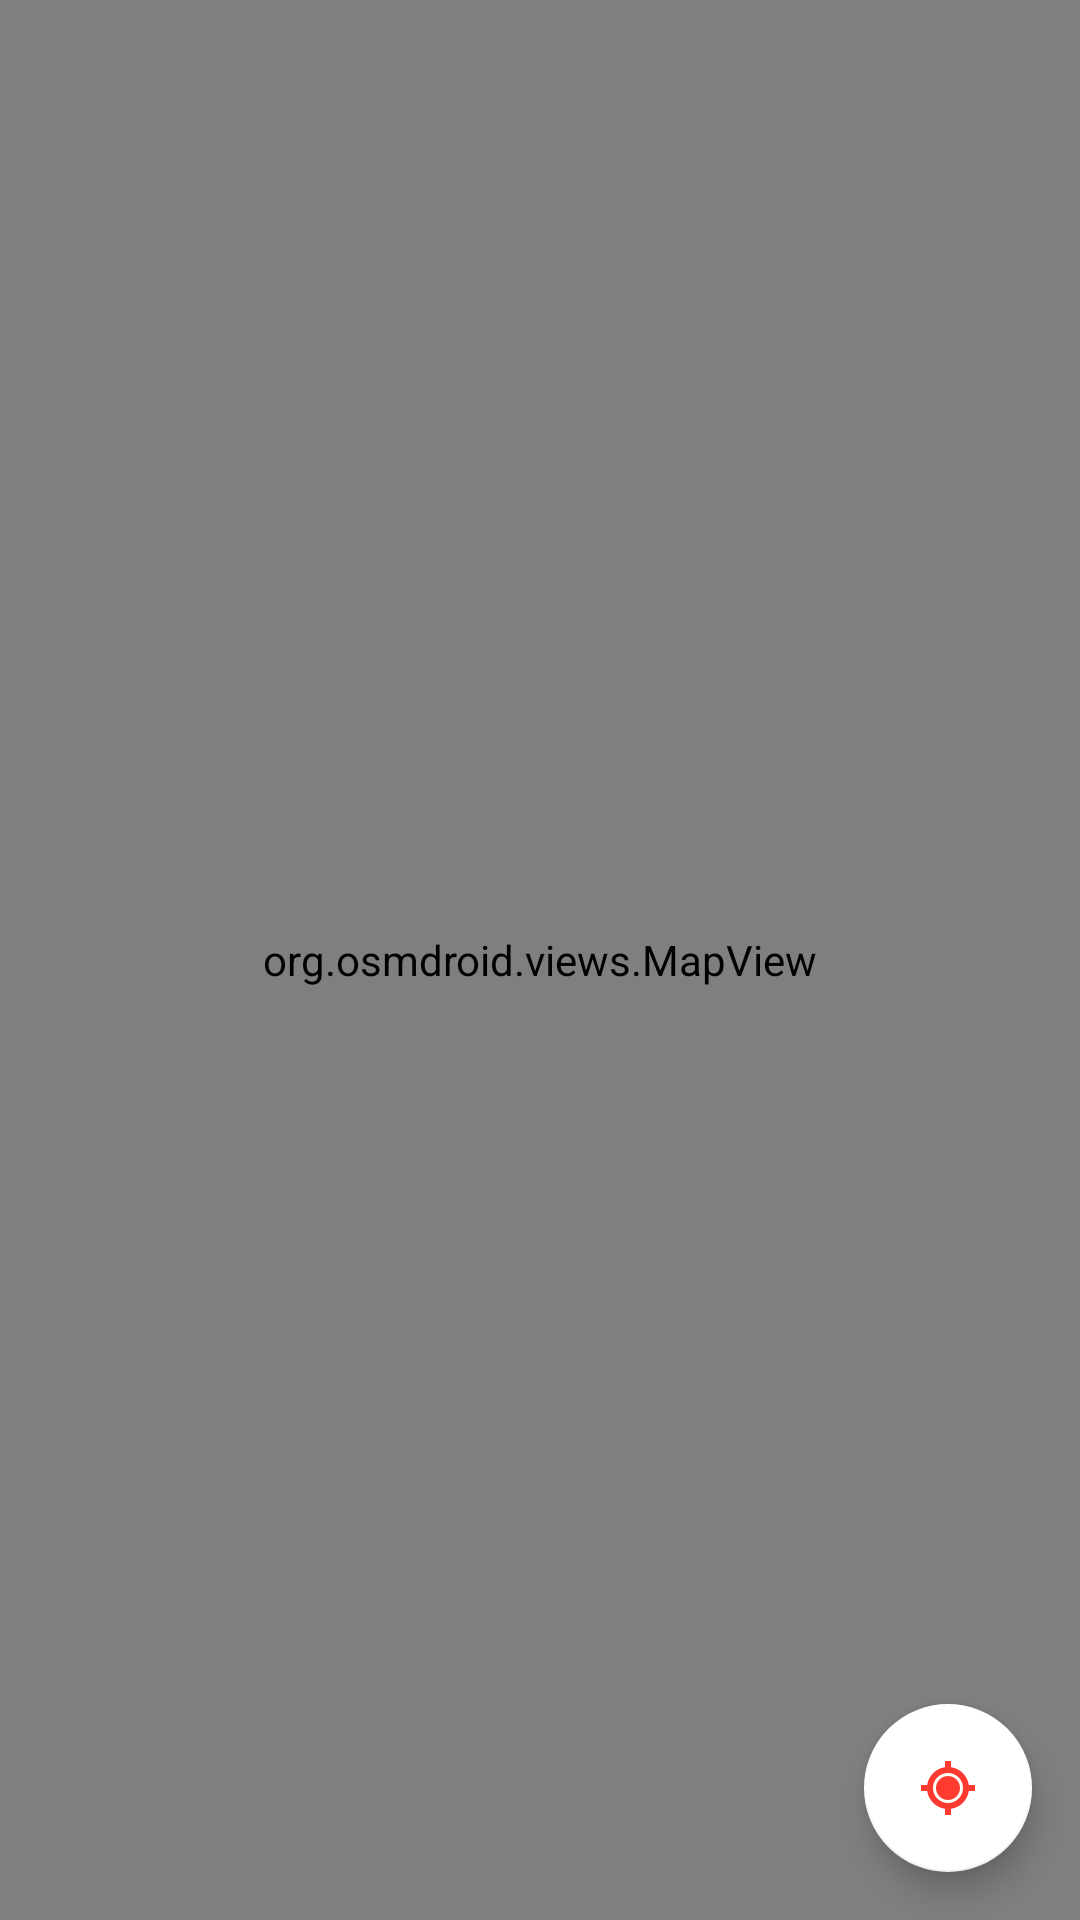

Locate icon controls on the screen. Image size 1080 × 1920, boxes as (x1, y1, x2, y2).
location: (864, 1704, 1032, 1872)
